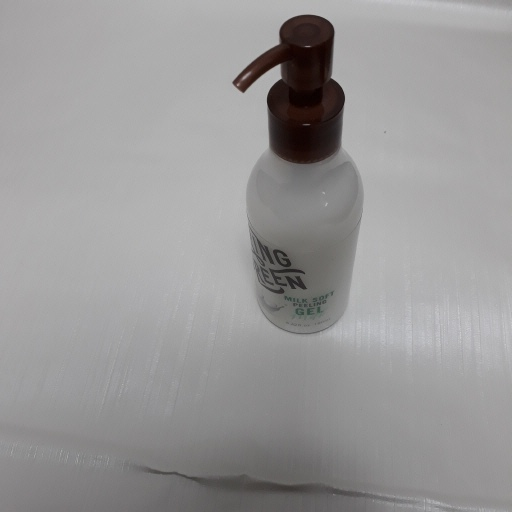Plastic_3: (229, 14, 366, 336)
